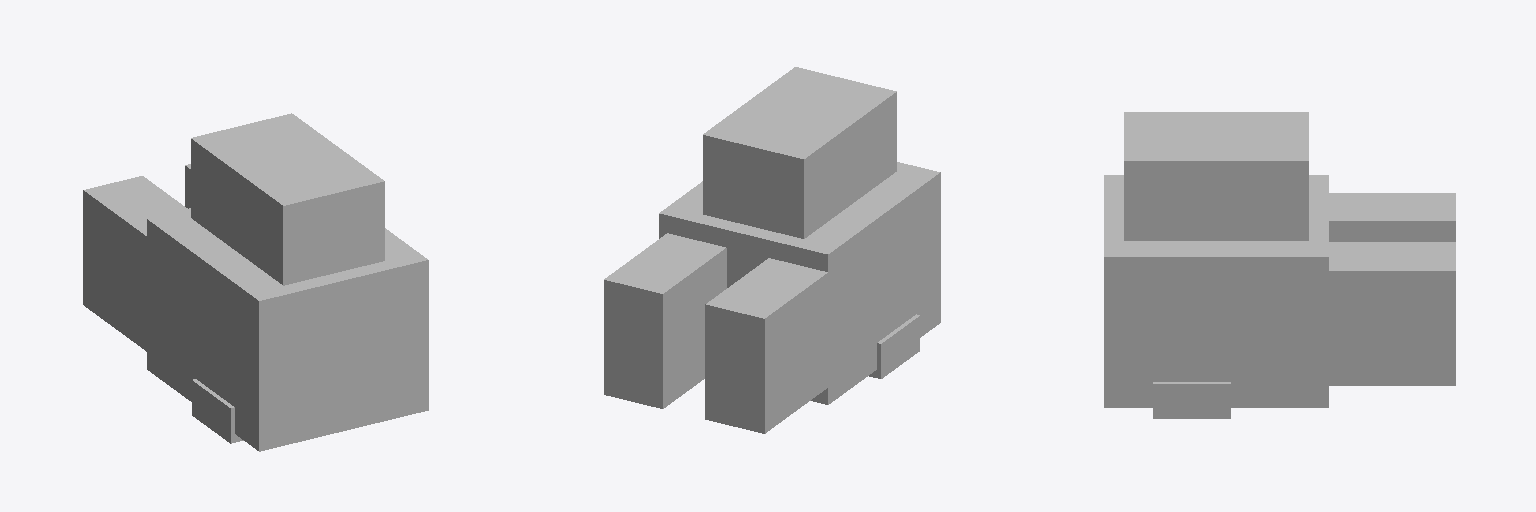
The model's file is Player1.obj.
3 renders of one model, left to right at view 1: azimuth 30°, elevation 25°; view 2: azimuth 150°, elevation 25°; view 3: azimuth 270°, elevation 25°, orthographic.
Parts seen in each view (by area): view 1: obj_0; view 2: obj_0; view 3: obj_0.
Part boxes in pixels (x1,y1,x2,y2): obj_0: (83,113,428,451); obj_0: (604,67,940,433); obj_0: (1104,112,1455,418).
Size of the model in its own units: 21 by 27 by 36.